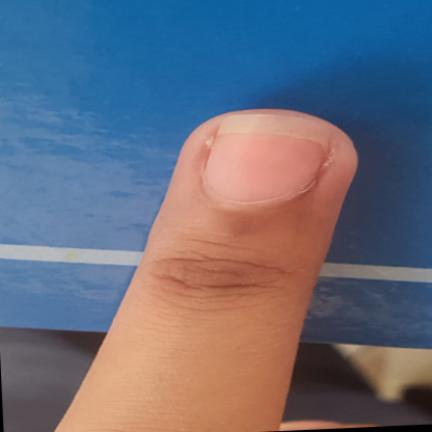Nail: (205, 116, 333, 204)
